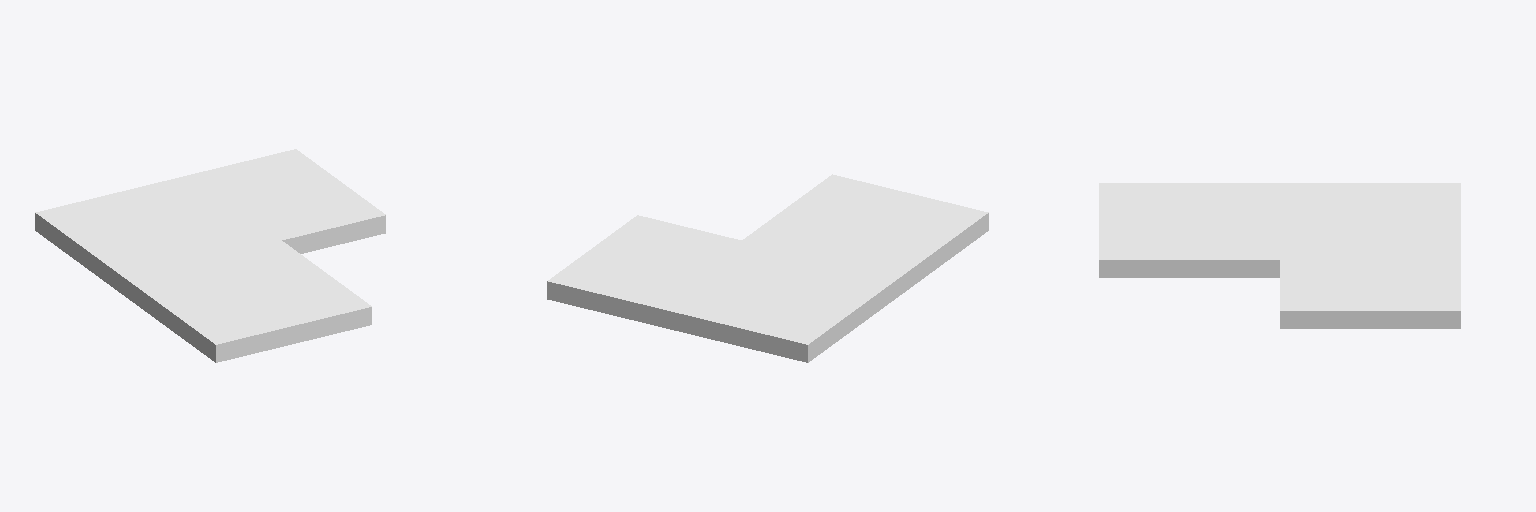
The model's file is turn_slow.obj.
3 renders of one model, left to right at view 1: azimuth 30°, elevation 25°; view 2: azimuth 150°, elevation 25°; view 3: azimuth 270°, elevation 25°, orthographic.
Bounding box in the file's own units: 15 × 1 × 18.